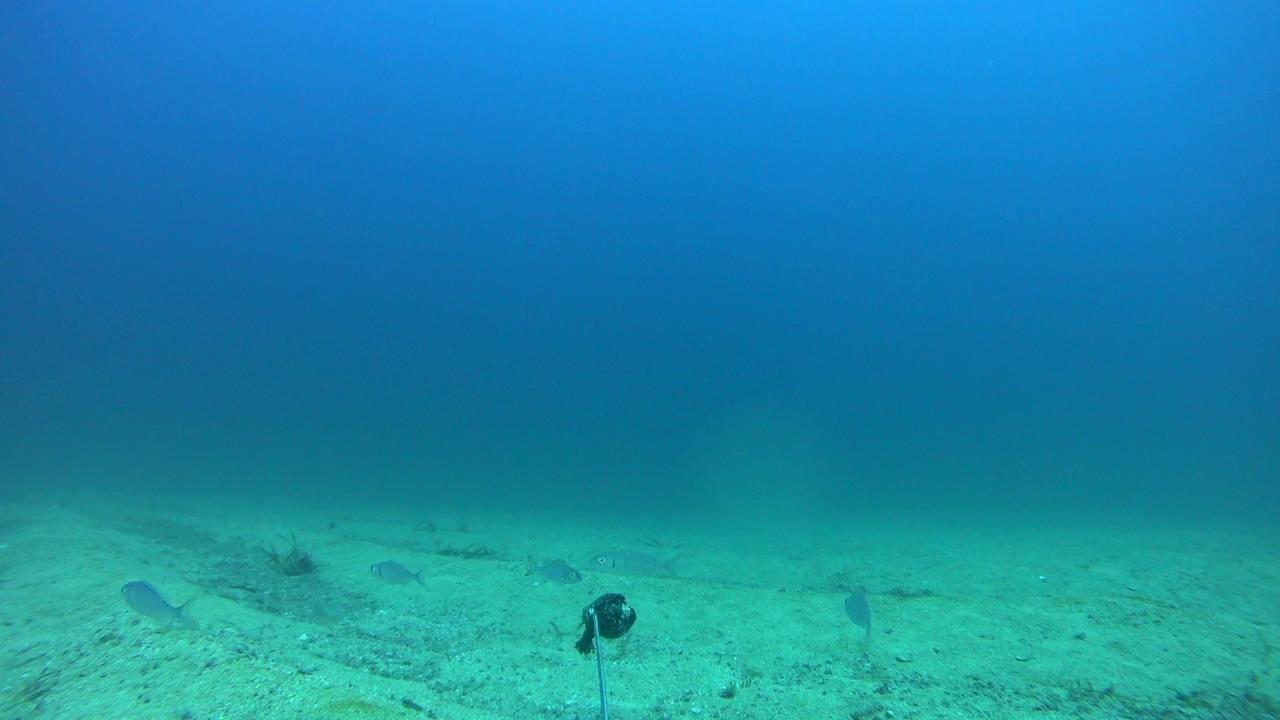pagellus: (118, 580, 195, 631), (588, 547, 682, 575), (524, 554, 583, 588), (367, 559, 427, 588), (840, 584, 875, 632)
